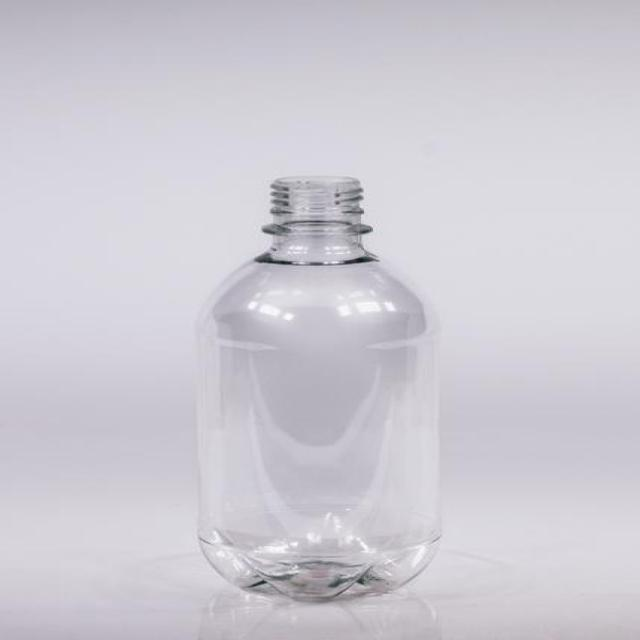bottle: (182, 173, 442, 603)
